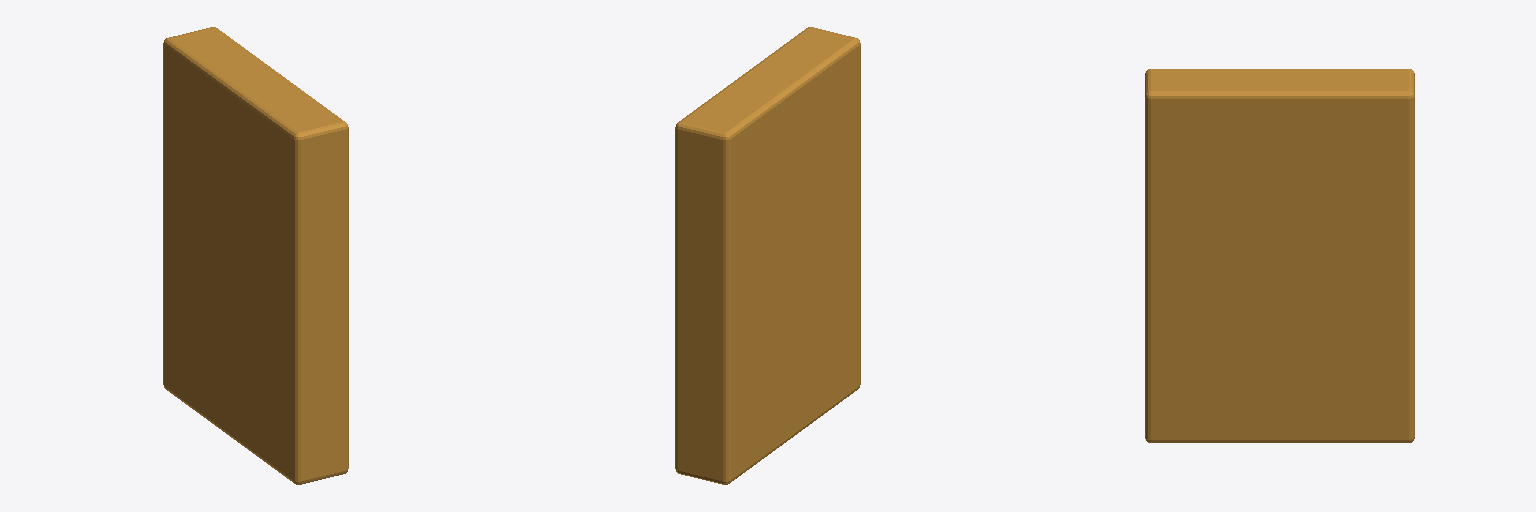
The model's file is book1.obj.
The picture shows the model from 3 angles: view 1: azimuth 30°, elevation 25°; view 2: azimuth 150°, elevation 25°; view 3: azimuth 270°, elevation 25°; orthographic projection.
Visible parts, largest first — view 1: Cube; view 2: Cube; view 3: Cube.
Part boxes in pixels (left/top/right/bottom): Cube: left=163, top=27, right=348, bottom=484; Cube: left=675, top=27, right=860, bottom=484; Cube: left=1145, top=69, right=1414, bottom=442.
Size of the model in its own units: 32.53 by 200 by 139.